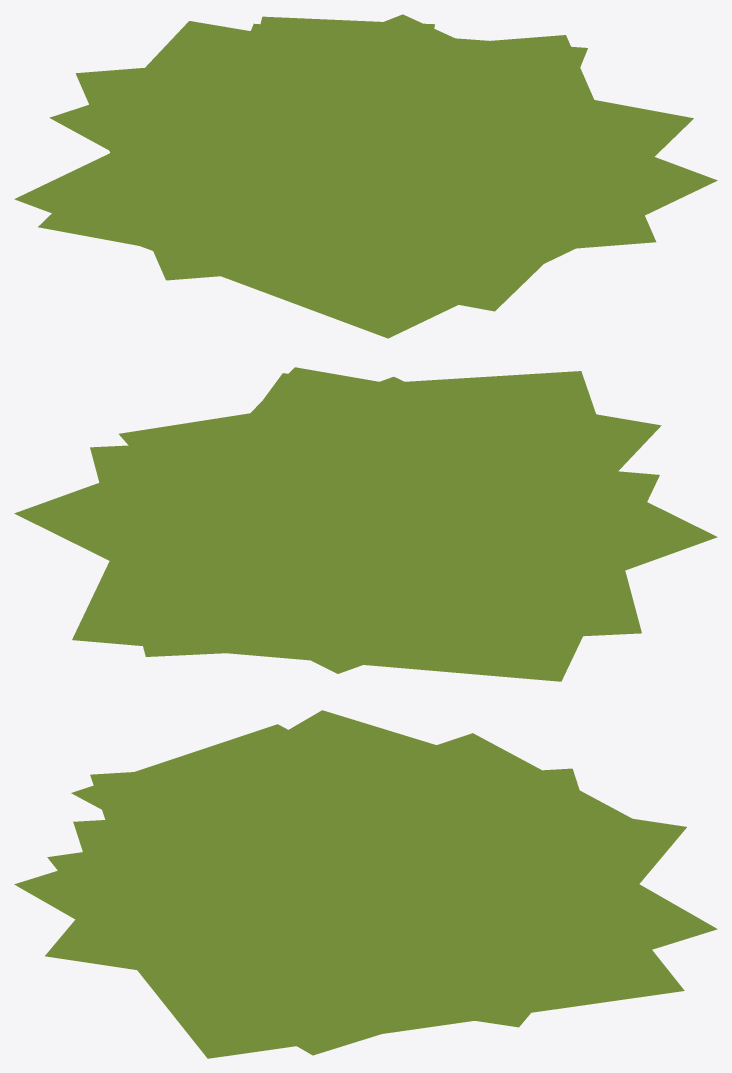
File: Bush_Pane.fbx
3 renders of one model, top to bottom at view 1: azimuth 30°, elevation 25°; view 2: azimuth 150°, elevation 25°; view 3: azimuth 270°, elevation 25°, orthographic.
Parts seen in each view (by area): view 1: Bush_Plane; view 2: Bush_Plane; view 3: Bush_Plane.
Boxes of the visible parts, x1,y1,x2,y2 form: Bush_Plane: (14, 14, 717, 338); Bush_Plane: (14, 367, 717, 681); Bush_Plane: (14, 710, 717, 1058).
Size of the model in its own units: 457 by 92.11 by 457.
